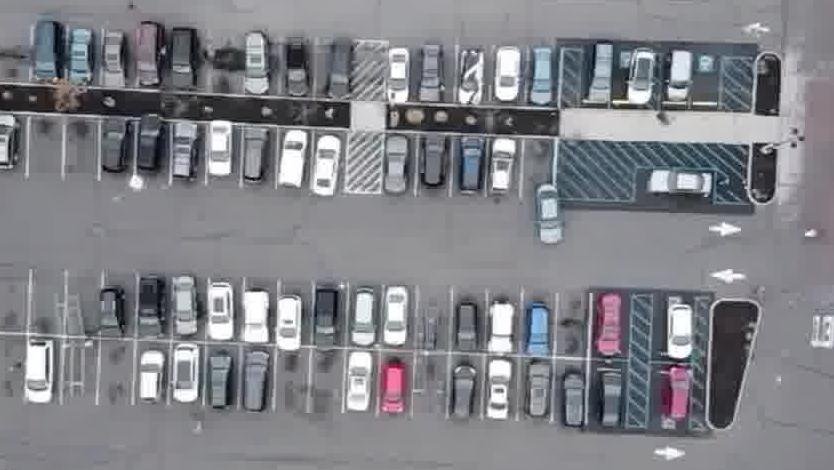car: (341, 349, 379, 416), (21, 337, 56, 407), (29, 18, 65, 83), (166, 26, 201, 91), (308, 133, 343, 198), (643, 167, 714, 199), (132, 20, 163, 89), (97, 117, 133, 176), (483, 361, 516, 425), (239, 351, 271, 417), (167, 345, 201, 407), (487, 136, 520, 199), (133, 113, 166, 176), (203, 350, 235, 413), (311, 288, 342, 353), (325, 37, 356, 101), (275, 131, 308, 191), (273, 294, 307, 352), (135, 276, 166, 339), (133, 346, 164, 409), (239, 127, 271, 188), (595, 292, 625, 357), (534, 184, 563, 249), (381, 283, 410, 348), (243, 29, 271, 96), (448, 361, 479, 421), (379, 360, 410, 420), (595, 365, 624, 429), (241, 288, 273, 346), (625, 49, 658, 105), (347, 285, 375, 351), (205, 282, 235, 343), (382, 135, 411, 197), (420, 133, 450, 192), (455, 136, 484, 197), (485, 298, 516, 355), (493, 45, 522, 105), (416, 43, 445, 103), (559, 368, 587, 430), (171, 121, 200, 180), (662, 365, 691, 424), (585, 43, 614, 101), (66, 27, 95, 85), (98, 285, 128, 341), (666, 303, 694, 362), (527, 46, 554, 107), (285, 35, 311, 98), (384, 45, 411, 105), (171, 273, 196, 337), (458, 48, 486, 105), (525, 361, 552, 420), (208, 120, 234, 181), (663, 50, 692, 103), (523, 304, 552, 357), (101, 29, 126, 90), (455, 302, 479, 355), (0, 113, 19, 171)
